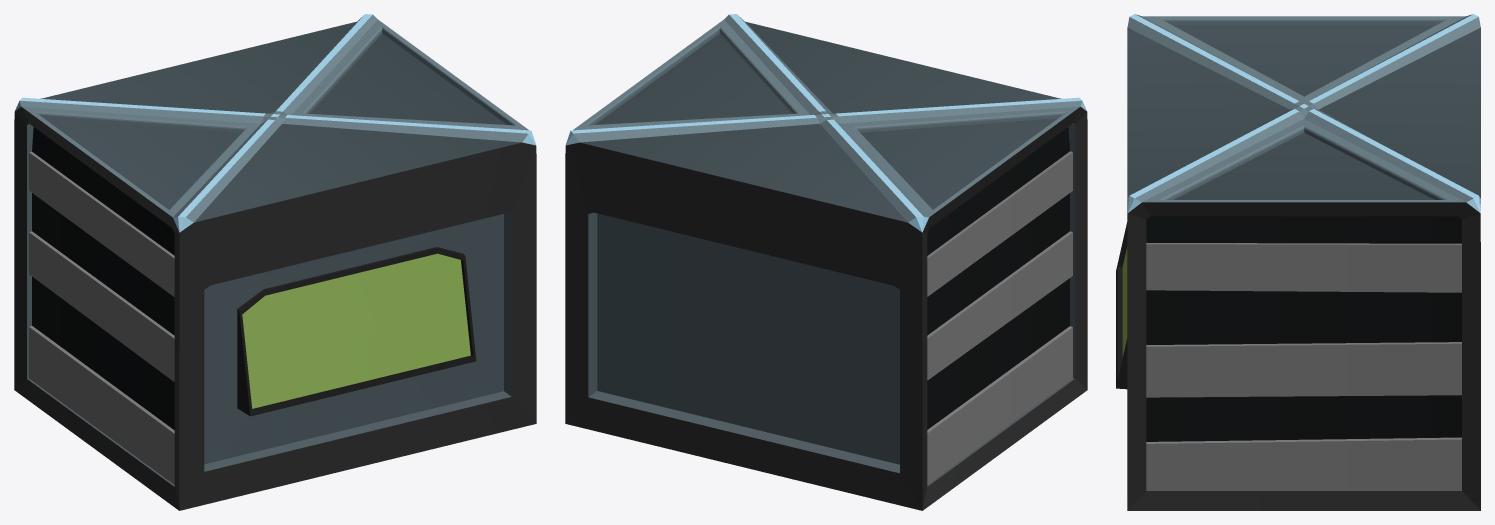
The model's file is Future Med Crate Steel.fbx.
3 views of the same model, side by side, from view 1: azimuth 30°, elevation 25°; view 2: azimuth 150°, elevation 25°; view 3: azimuth 270°, elevation 25° (orthographic). The views are drawn at different scales.
Parts seen in each view (by area): view 1: Future Med Crate Steel; view 2: Future Med Crate Steel; view 3: Future Med Crate Steel.
Boxes of the visible parts, box(x1,y1,x2,y2) form: Future Med Crate Steel: box(14, 14, 536, 510); Future Med Crate Steel: box(565, 14, 1087, 510); Future Med Crate Steel: box(1116, 14, 1480, 510).
Bounding box in the file's own units: 258 × 274 × 331.
1 material, 1 textured.
